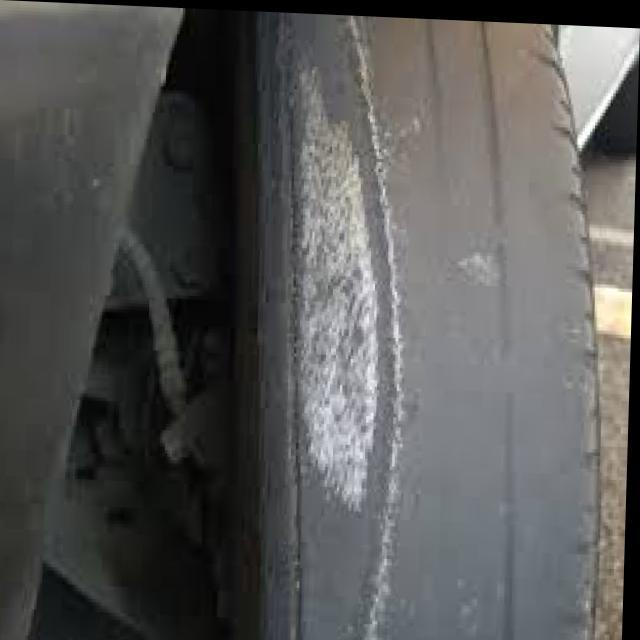Flat spots: (394, 26, 558, 638)
